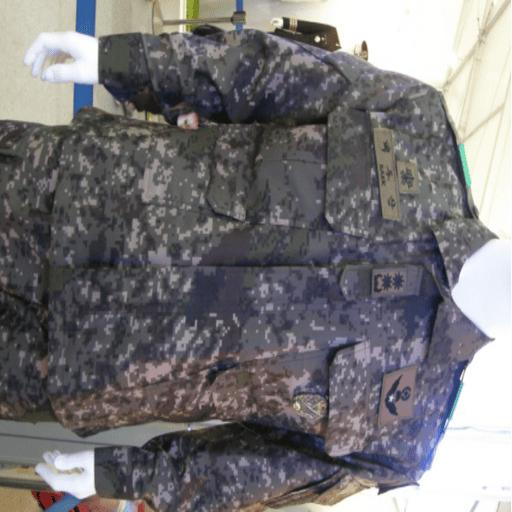korea army: (1, 24, 501, 510)
